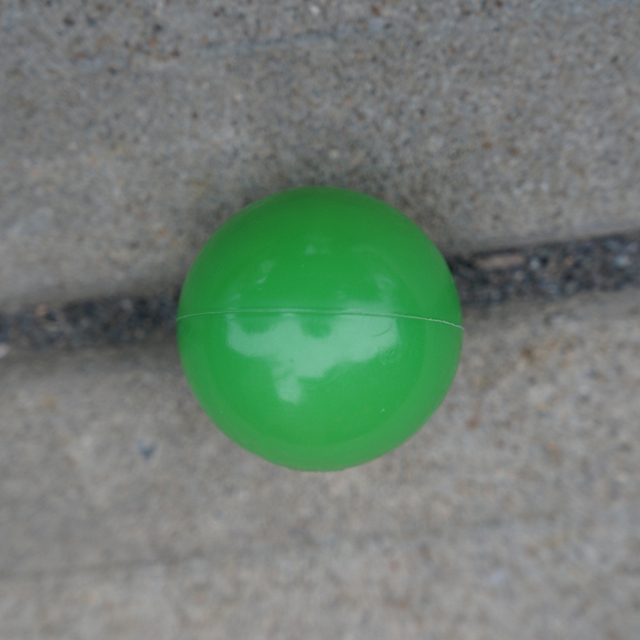Ball: (180, 190, 465, 468)
